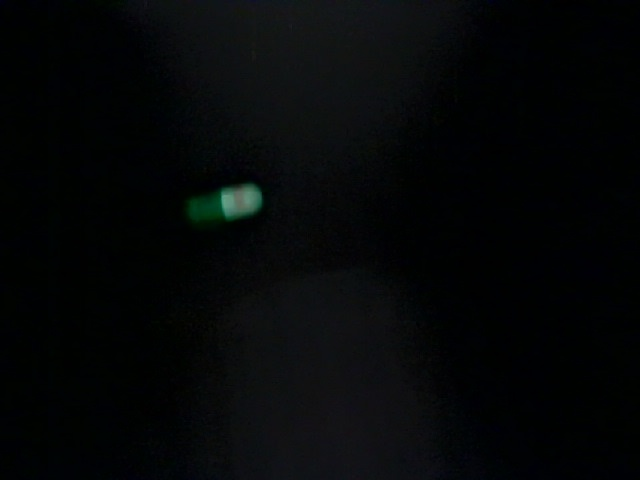YHLJ: (402, 353, 501, 440)
